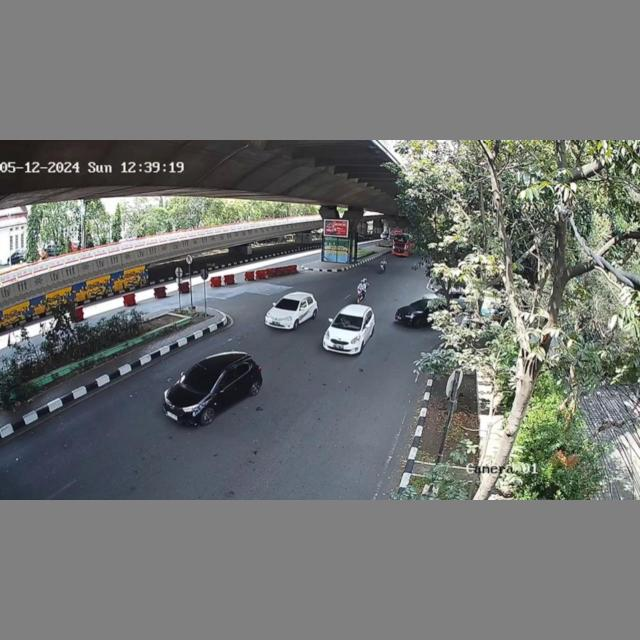windshield: (176, 366, 219, 393), (331, 312, 363, 331), (274, 297, 299, 312)
